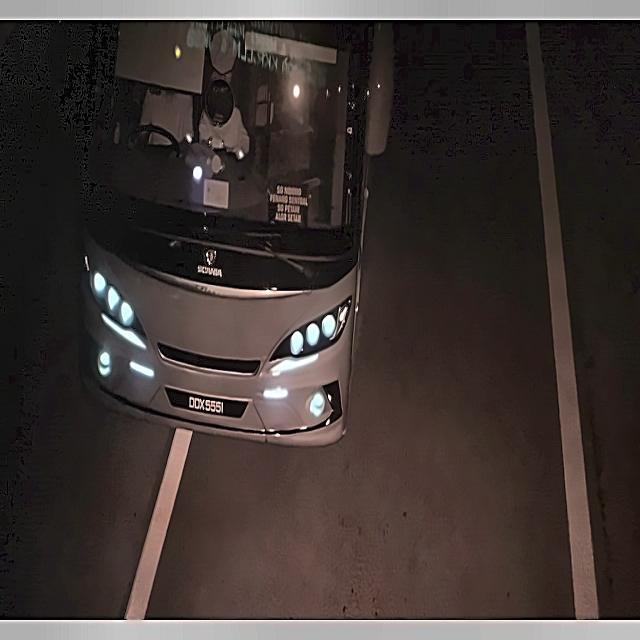car: (158, 373, 257, 428)
